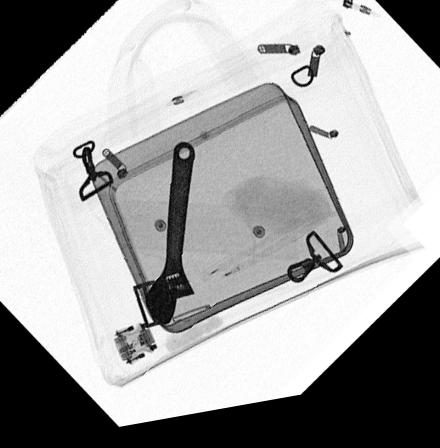Wrench: (142, 145, 195, 331)
